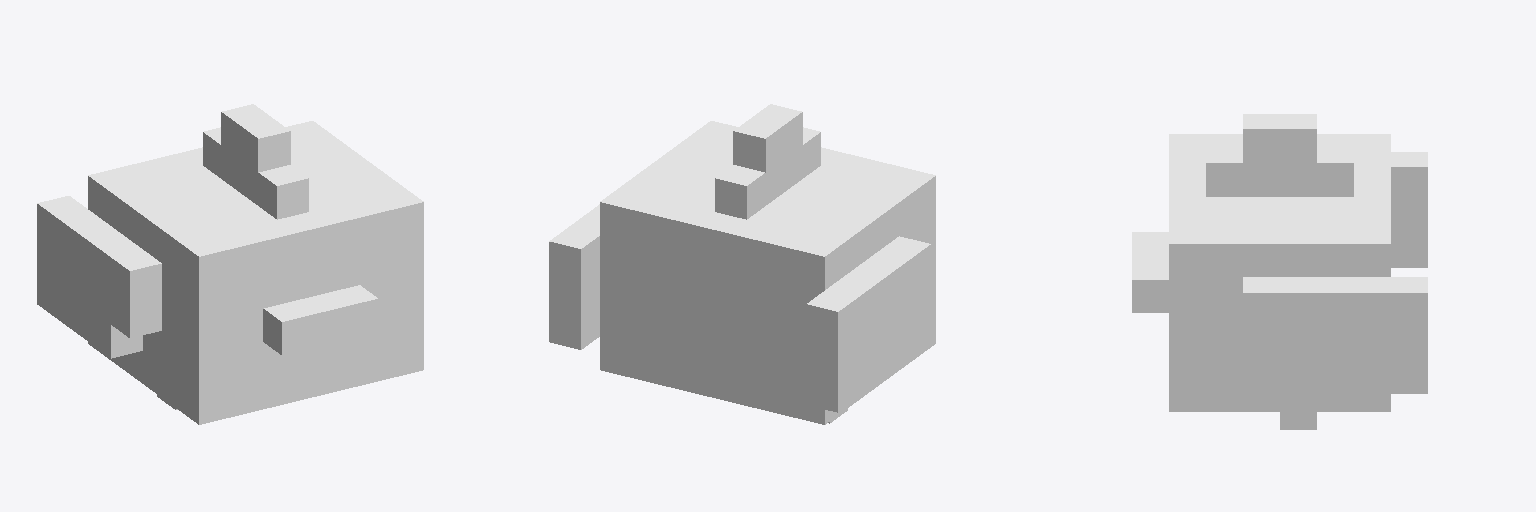
File: bird.obj
3 renders of one model, left to right at view 1: azimuth 30°, elevation 25°; view 2: azimuth 150°, elevation 25°; view 3: azimuth 270°, elevation 25°, orthographic.
Visible parts, largest first — view 1: object 1; view 2: object 1; view 3: object 1.
Boxes of the visible parts, x1=… form: object 1: x1=37, y1=104, x2=423, y2=424; object 1: x1=549, y1=104, x2=935, y2=424; object 1: x1=1132, y1=114, x2=1427, y2=429.
Bounding box in the file's own units: 0.9 × 0.8 × 0.8.